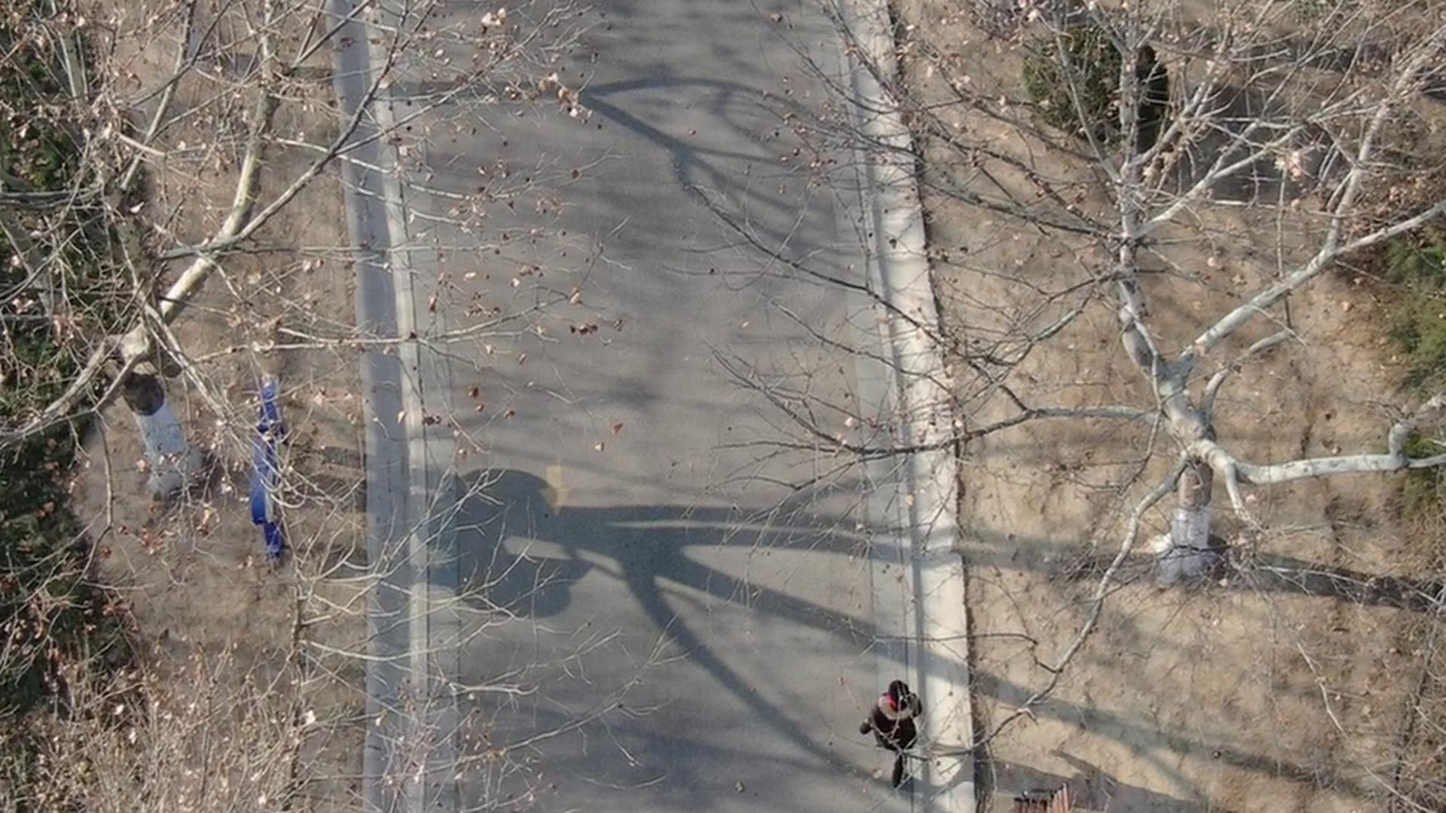human: (870, 681, 921, 784)
